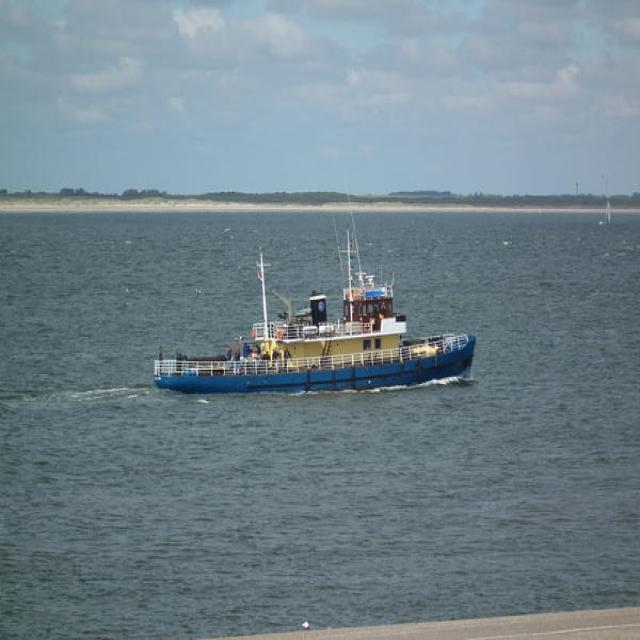fishing boat: (151, 265, 477, 393)
